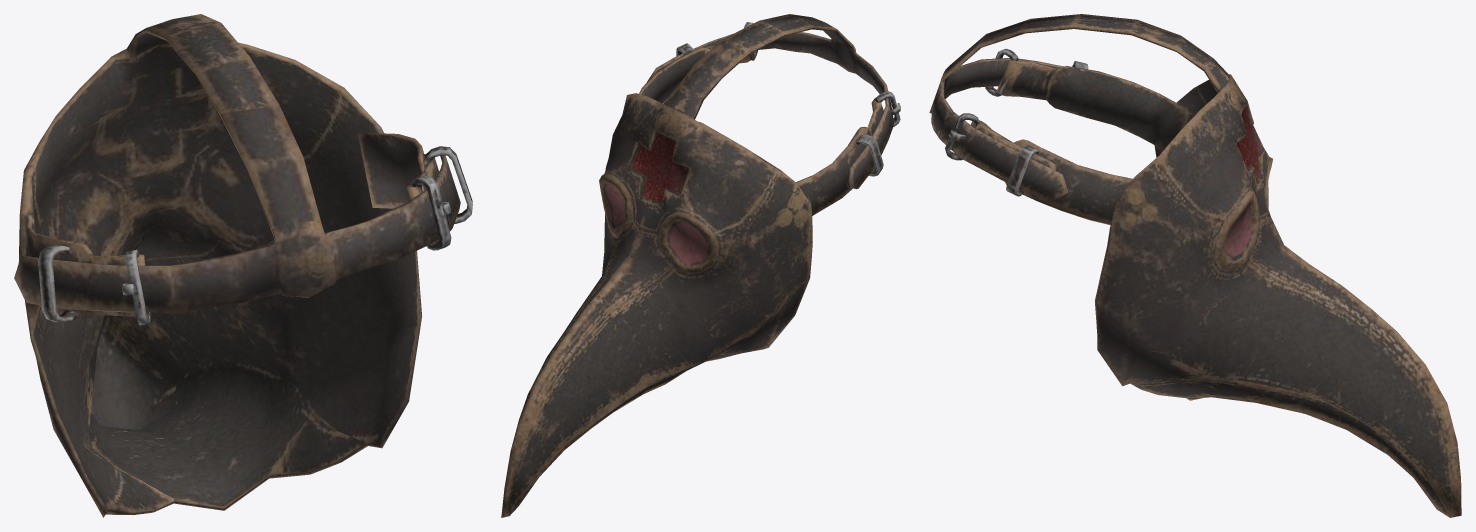
Rendered from plague_mask.glb.
The picture shows the model from 3 angles, left to right: view 1: azimuth 30°, elevation 25°; view 2: azimuth 150°, elevation 25°; view 3: azimuth 270°, elevation 25°; orthographic projection. The views are drawn at different scales.
Parts seen in each view (by area): view 1: Costum - Copy.001; view 2: Costum - Copy.001; view 3: Costum - Copy.001.
Boxes of the visible parts, left/top/right/bottom form: Costum - Copy.001: left=14, top=14, right=472, bottom=517; Costum - Copy.001: left=501, top=14, right=900, bottom=517; Costum - Copy.001: left=929, top=14, right=1461, bottom=517.
Bounding box in the file's own units: 2274 × 3632 × 3939.
1 material, 1 textured.
